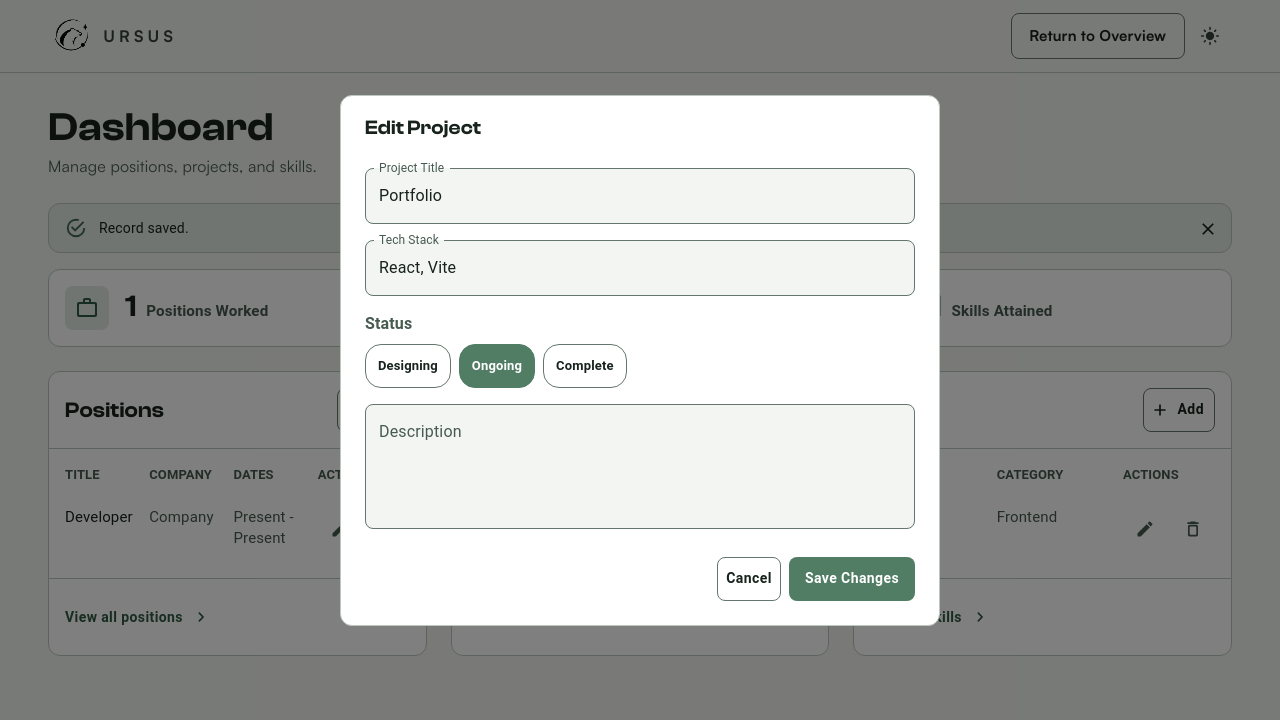
Projects create, edit, delete and view-all controls remain functional
The width and height of the screenshot is (1280, 720).
Earlier steps of the test are not shown.
Step 1. Click the button "Complete" → (585, 366), box [543, 344, 627, 388]
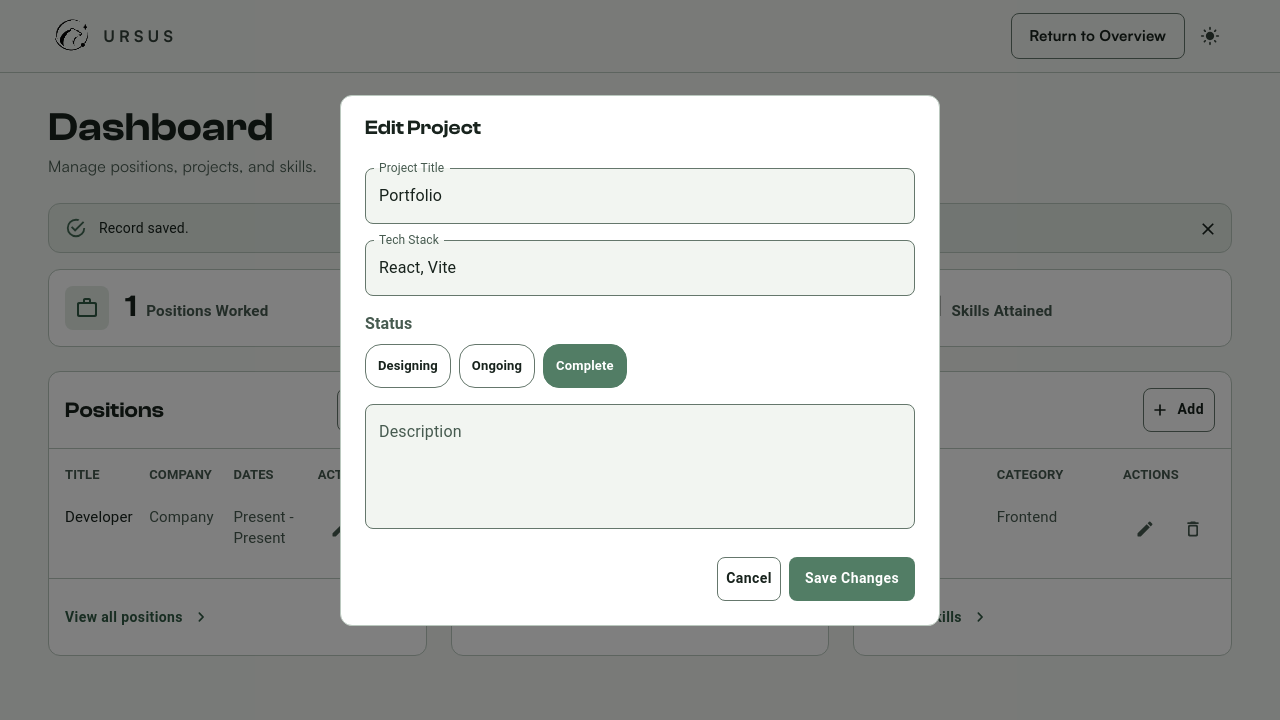
Step 2. Click the button "Save Changes" → (852, 578), box [789, 556, 915, 600]
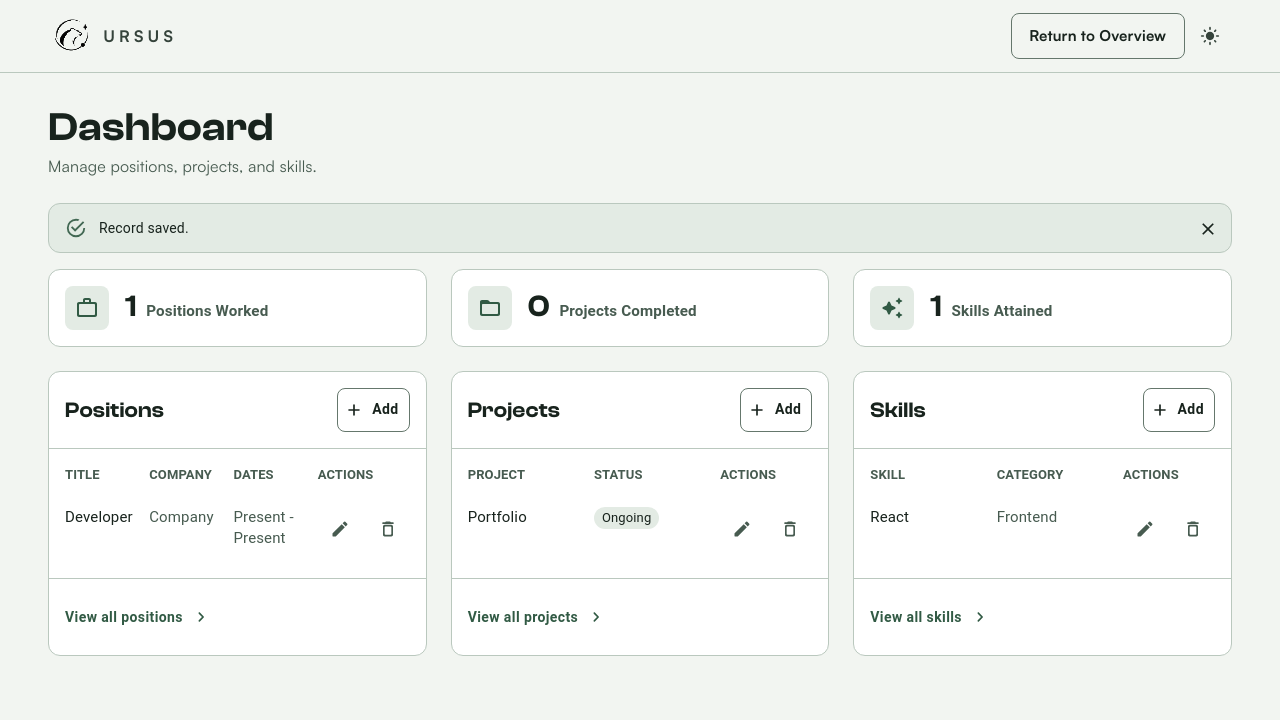
Check: the text "Record saved." is shown, box [99, 220, 189, 236]
Check: the dialog is gone
Step 3. Click the button "View all projects" → (535, 618), box [468, 596, 602, 640]
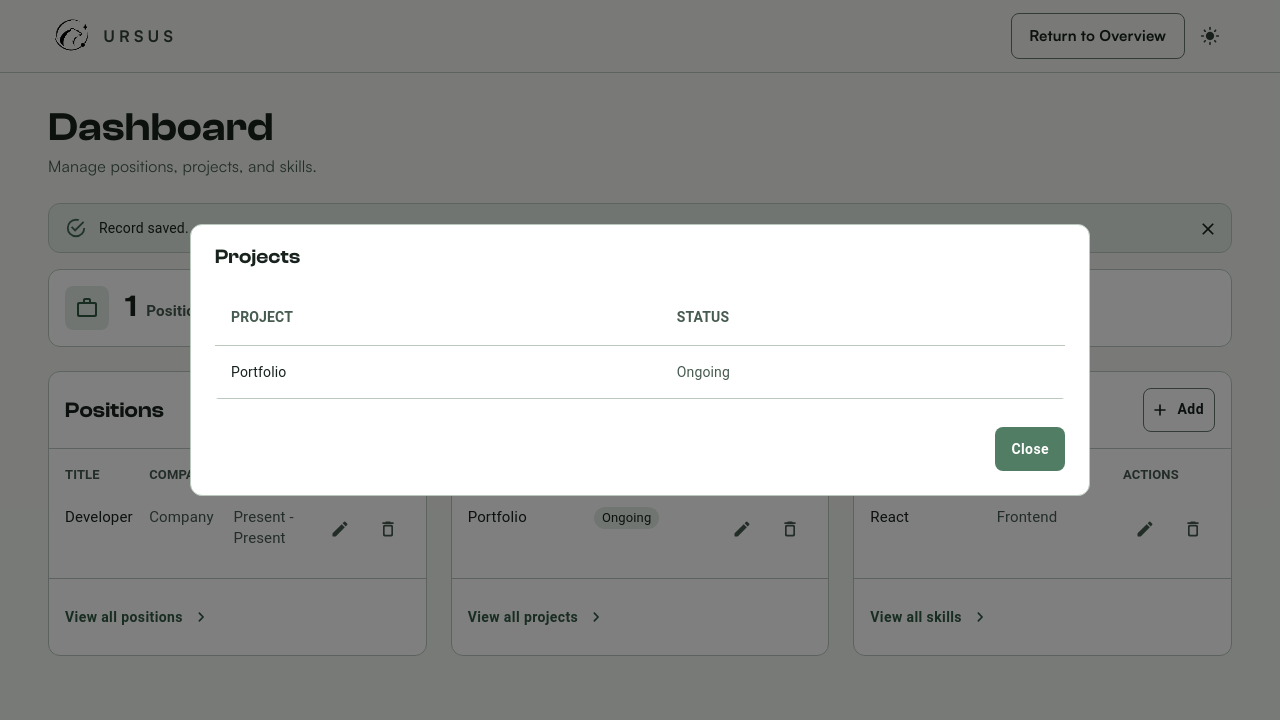
Check: the table is shown, box [215, 289, 1065, 399]
Step 4. Click the button "Close" → (1030, 449), box [995, 427, 1065, 471]
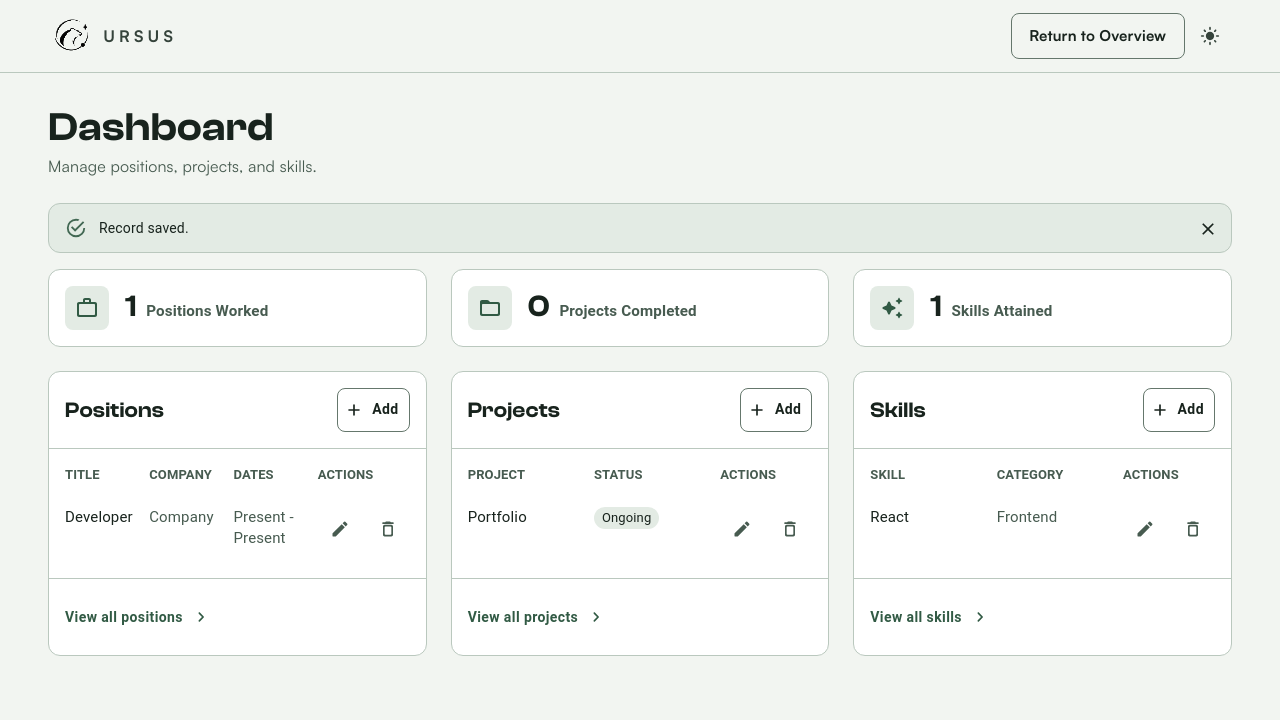
Check: the dialog is gone
Step 5. Click the button named "Delete Portfolio" → (790, 529), box [768, 507, 812, 551]
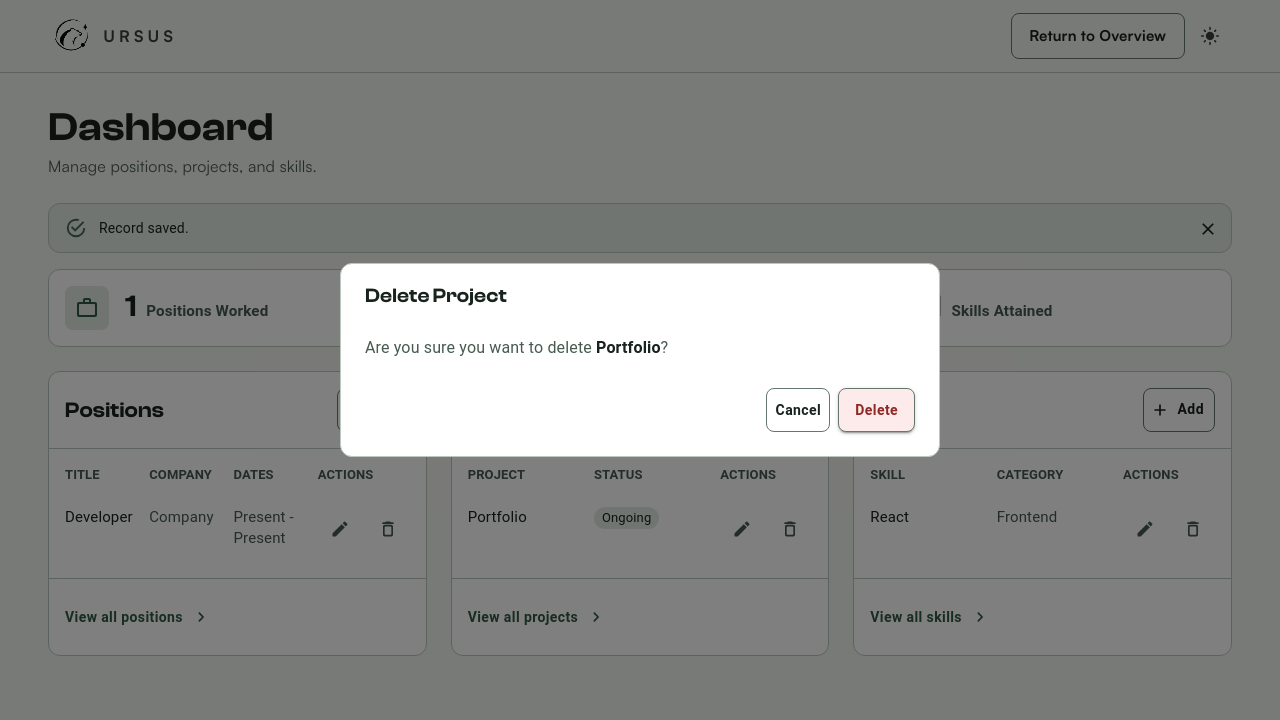
Step 6. Click the button "Delete" → (877, 410), box [838, 388, 915, 432]
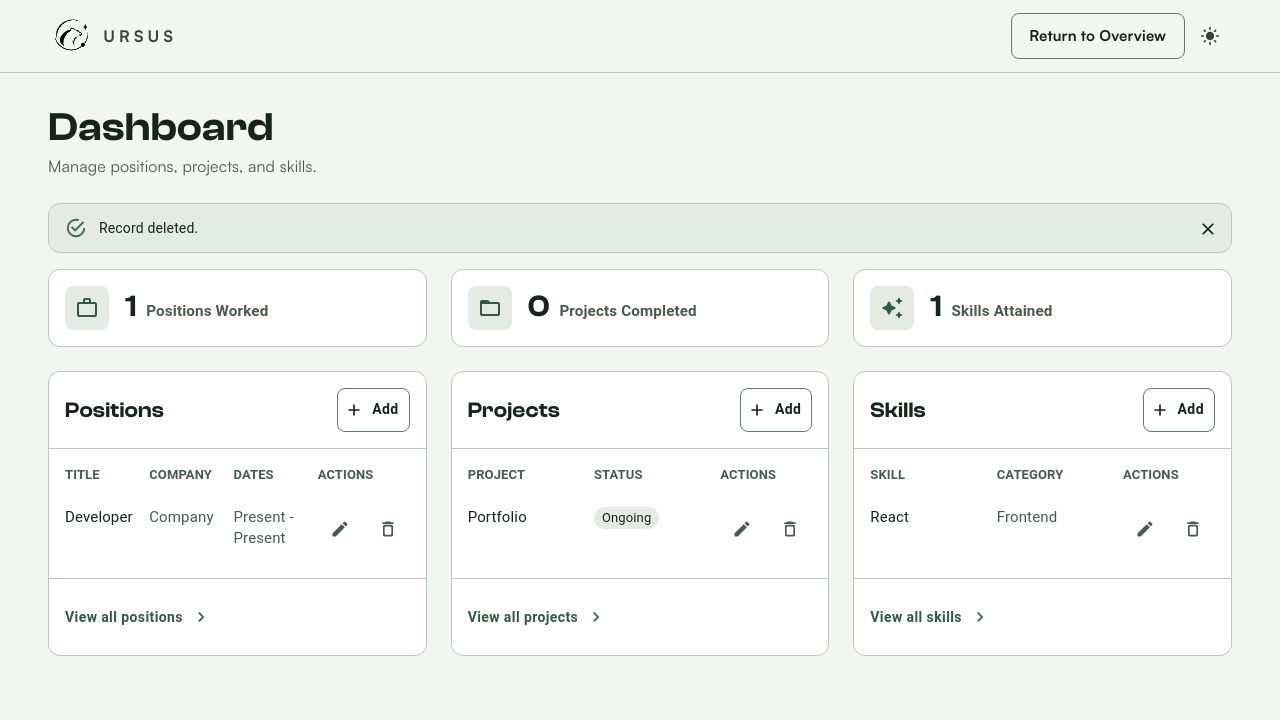
Check: the text "Record deleted." is shown, box [99, 220, 198, 236]
